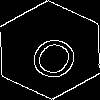O: (25, 25, 88, 84)
